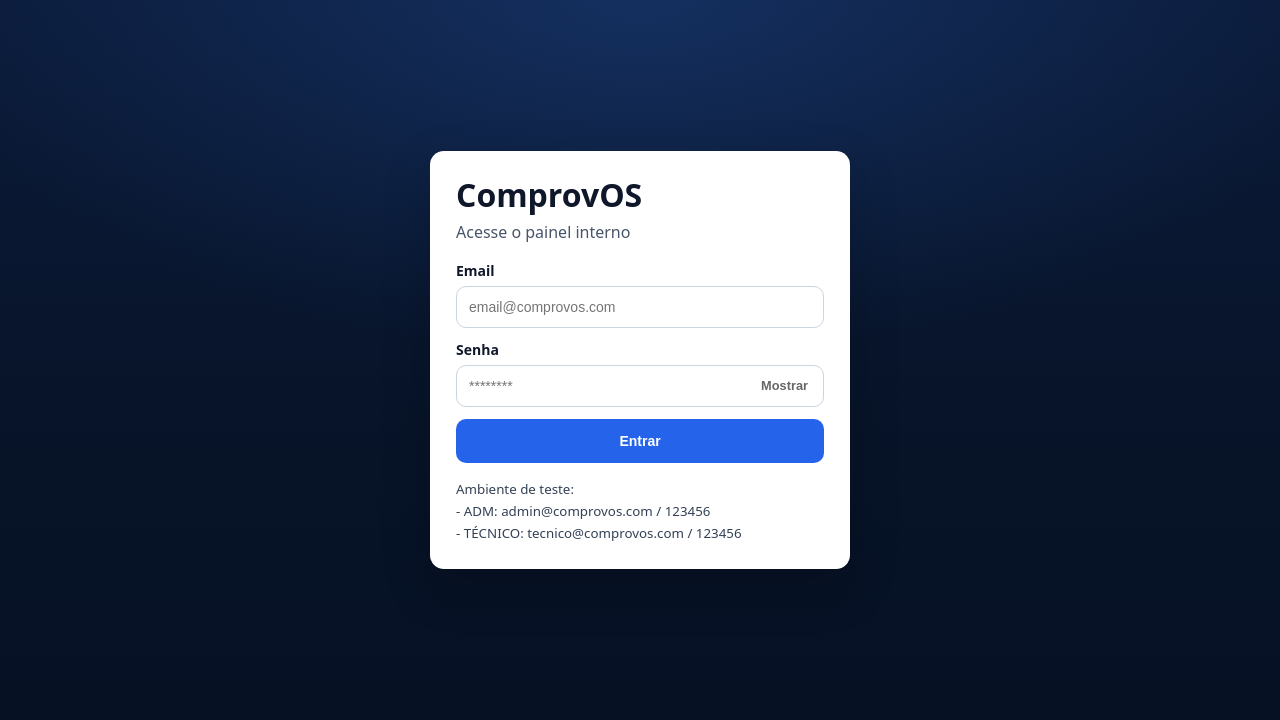
Test: LoginPage › deve exibir mensagem amigÃ¡vel quando o login retornar 401
Type "admin@comprovos.com" into the field labelled "Email".
click(640, 307); type("admin@comprovos.com")  # box [456,286,824,328]
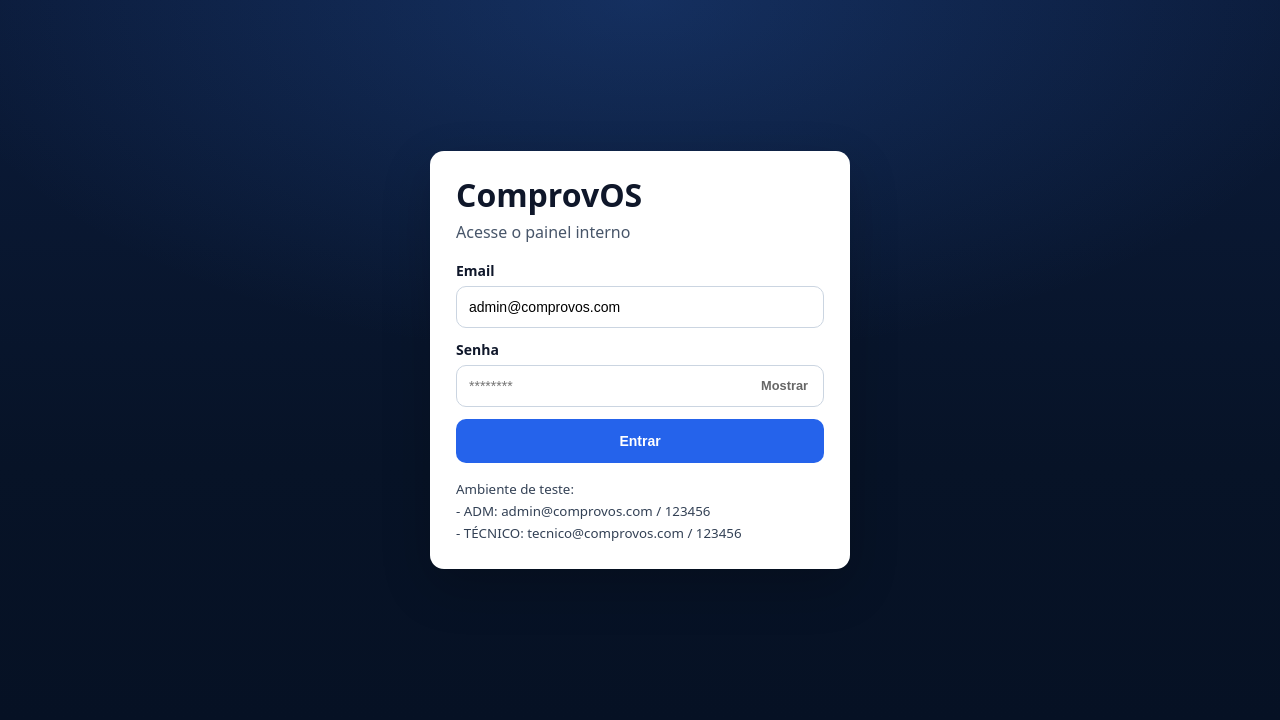
Type "senha-invalida" into the password field labelled "Senha Mostrar".
click(640, 386); type("senha-invalida")  # box [456,365,824,407]
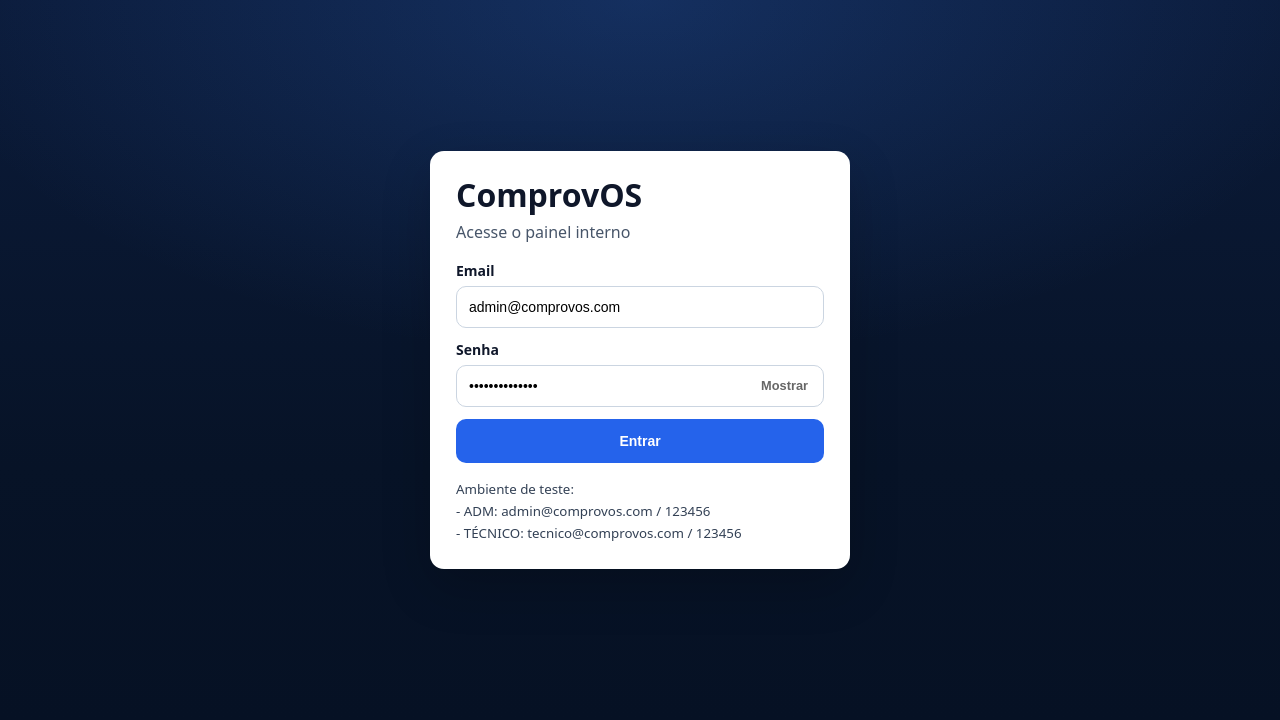
Click the button "Entrar".
click(640, 441)  # box [456,419,824,463]
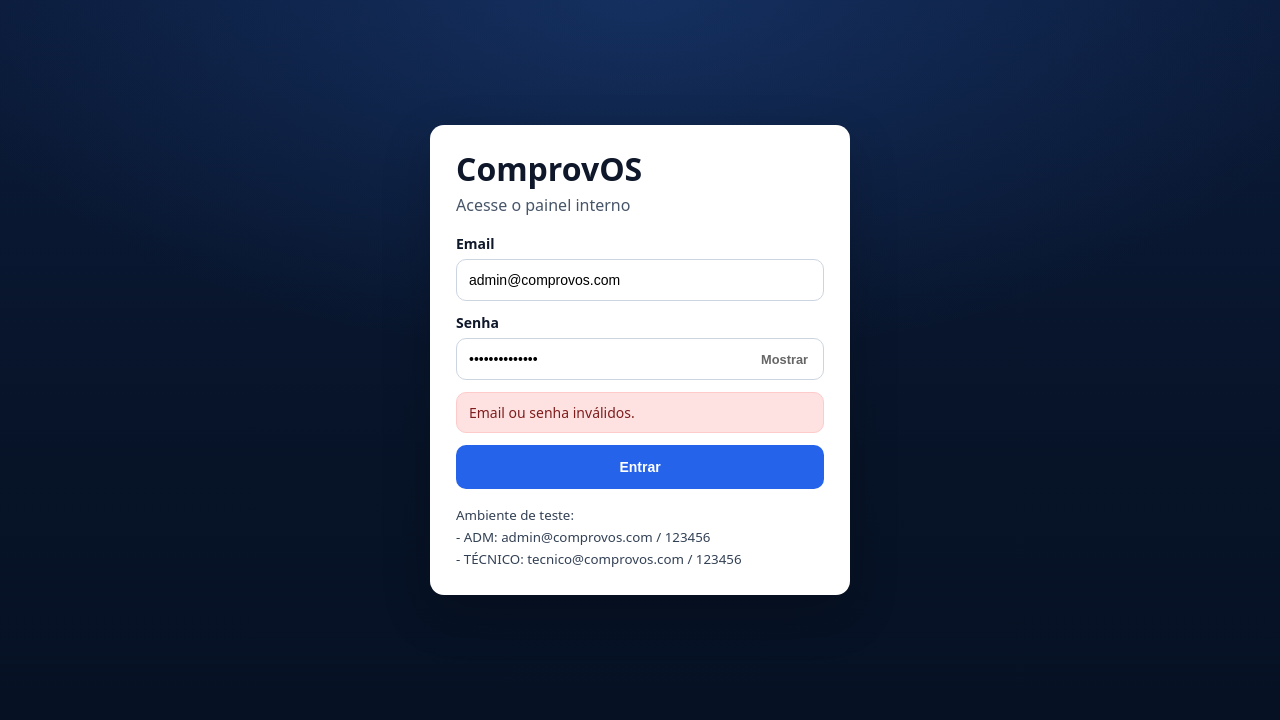
Now the message reads "Email ou senha inválidos.", box [469,403,635,422]
